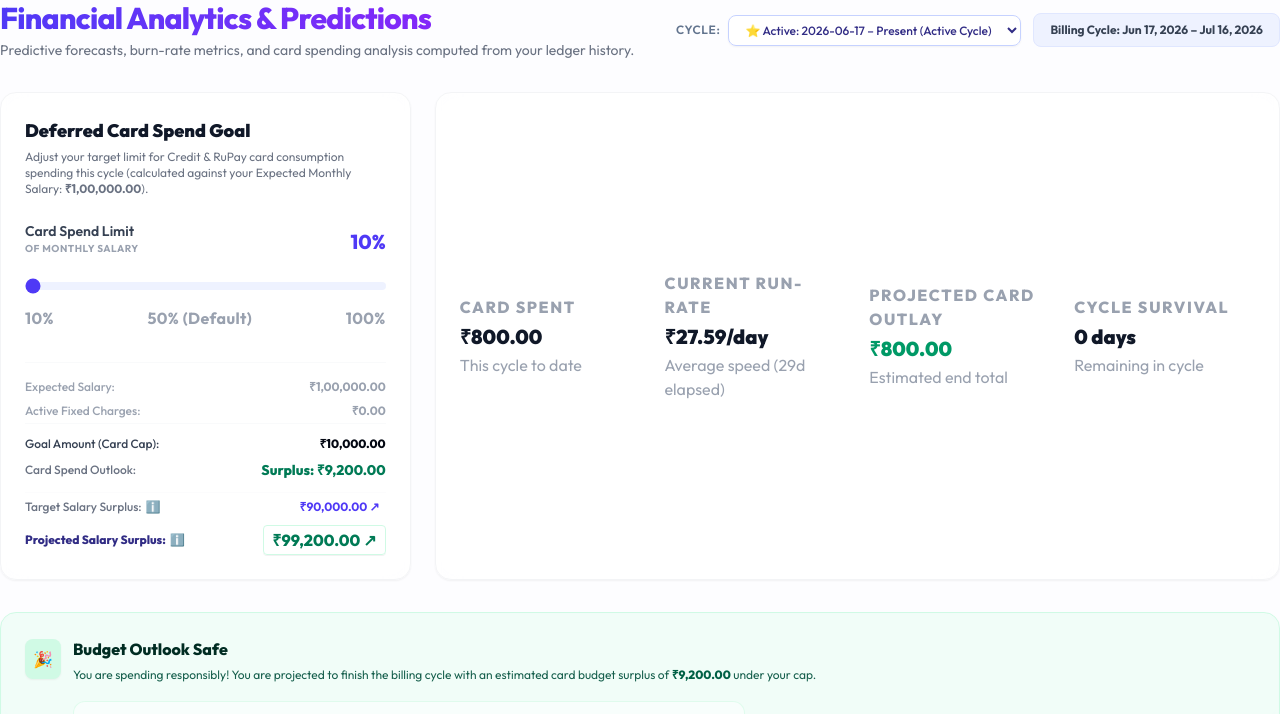
Financial Analytics Page Integration and UI Rendering › opens calculation breakdown modal when clicking on calculated forecast buttons
The width and height of the screenshot is (1280, 714).
Expected: the heading "Financial Analytics & Predictions" is shown, [0, 0, 634, 36]
What coordinates should you click on to do the following:
click the button with test id "net-savings-forecast"
I would click on:
 (325, 540)
Its box is [263, 525, 386, 555].
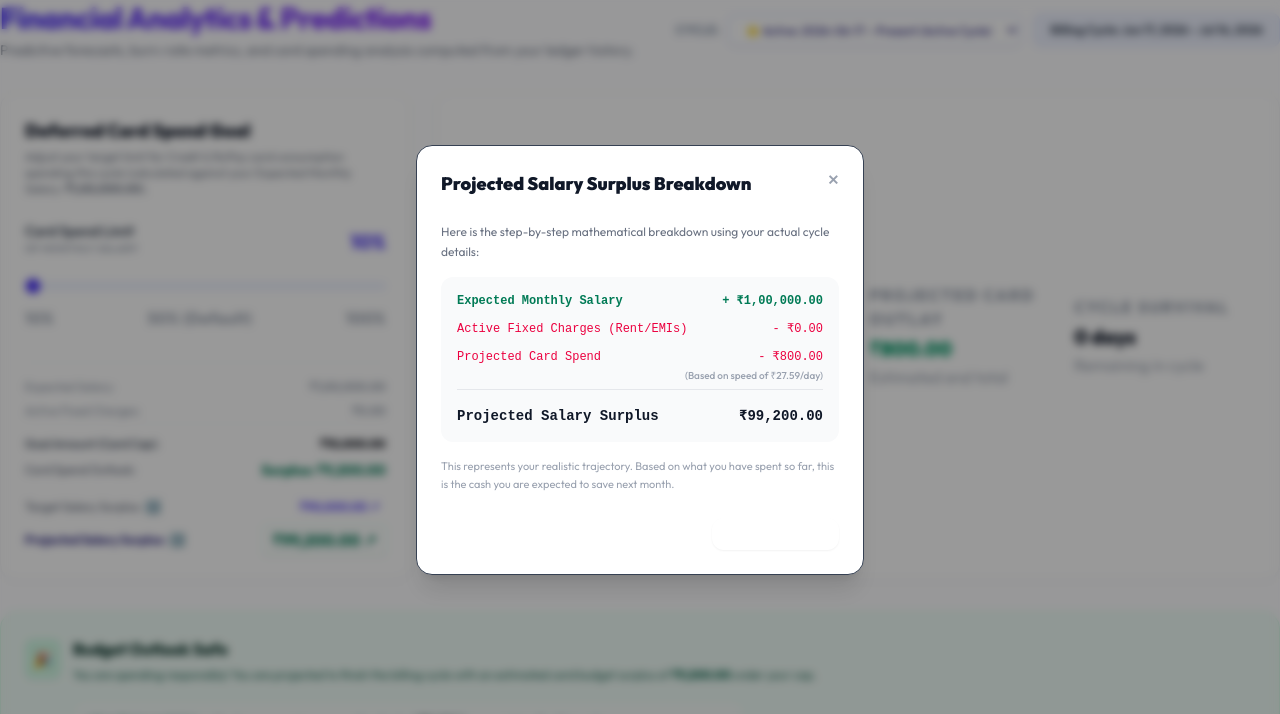
Result: the element with test id "calc-explanation-modal" is shown at [416, 145, 864, 575]
Result: the heading with test id "modal-title" reads "Projected Salary Surplus Breakdown" at [441, 172, 751, 195]
# Close modal
What coordinates should you click on to do the following:
click the button with test id "close-modal-button"
I would click on:
 (833, 180)
Its box is [827, 170, 839, 190].
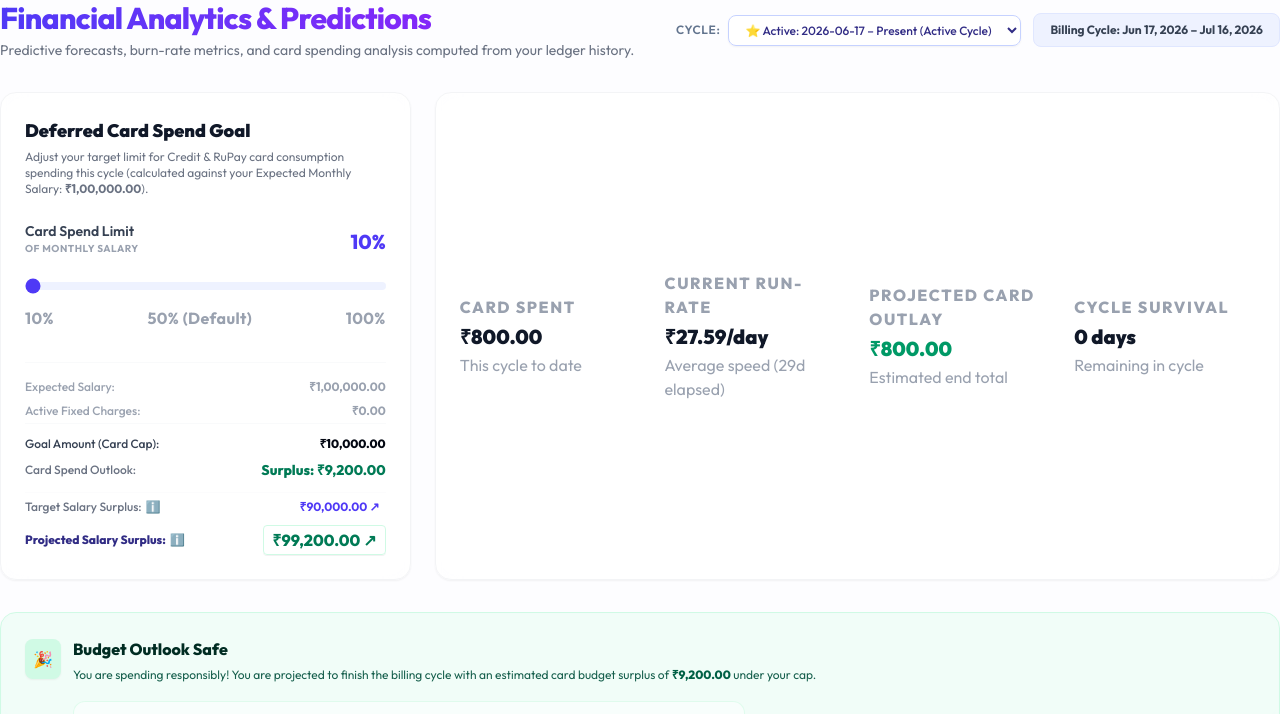
Result: the element with test id "calc-explanation-modal" is gone
